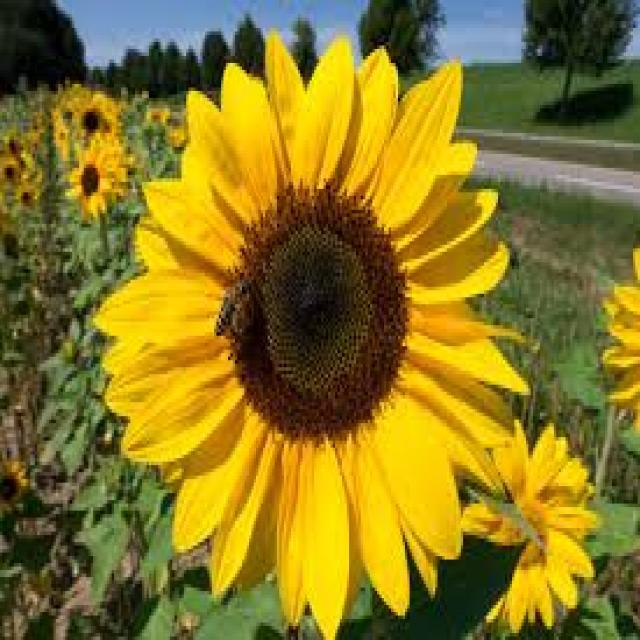sunflower: (94, 24, 535, 640), (461, 415, 602, 640), (596, 238, 640, 441), (69, 140, 115, 224), (68, 92, 119, 154), (1, 450, 30, 518), (142, 95, 172, 138), (0, 151, 26, 195), (16, 176, 36, 222), (0, 123, 26, 157), (55, 122, 71, 152)
